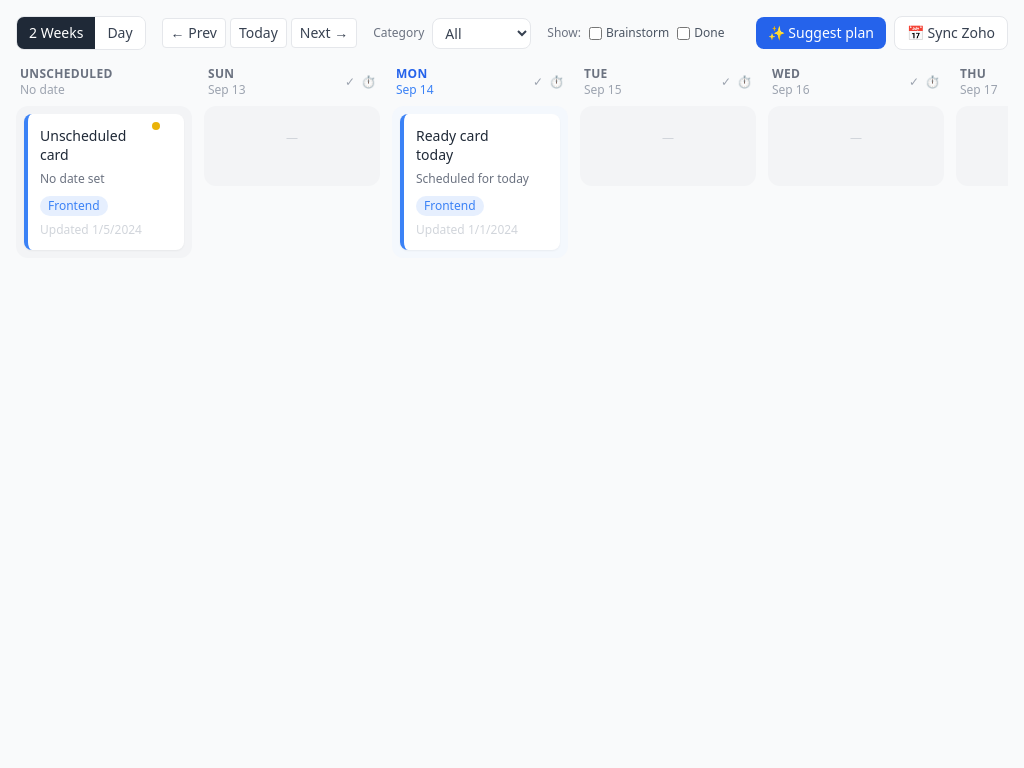
Scenario: CalendarView › clicking Suggest plan opens the plan review modal
Click the button "✨ Suggest plan": (821, 33) top-left (756, 17), bottom-right (886, 49)
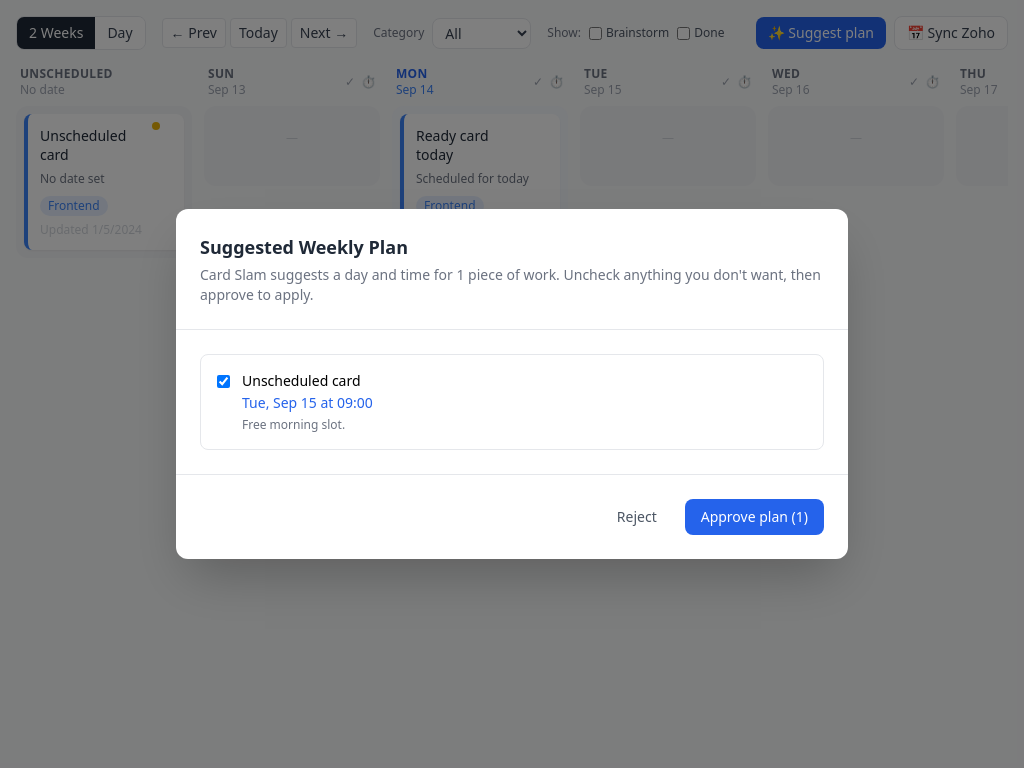
Now the heading "Suggested Weekly Plan" is shown, box top-left (200, 235), bottom-right (408, 259)
Now the button "Approve plan (1)" is shown, box top-left (685, 499), bottom-right (824, 535)
